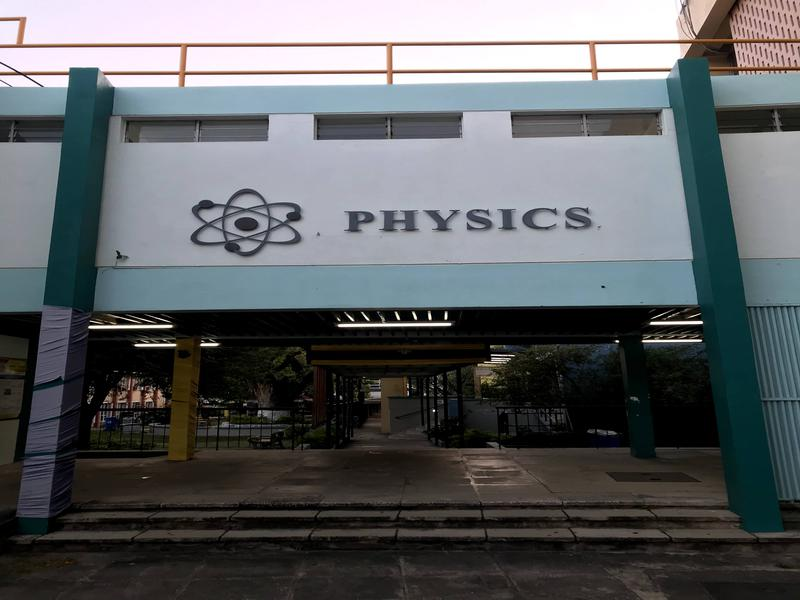18.0053657_-76.7491452_physicssign: (170, 182, 634, 267)
